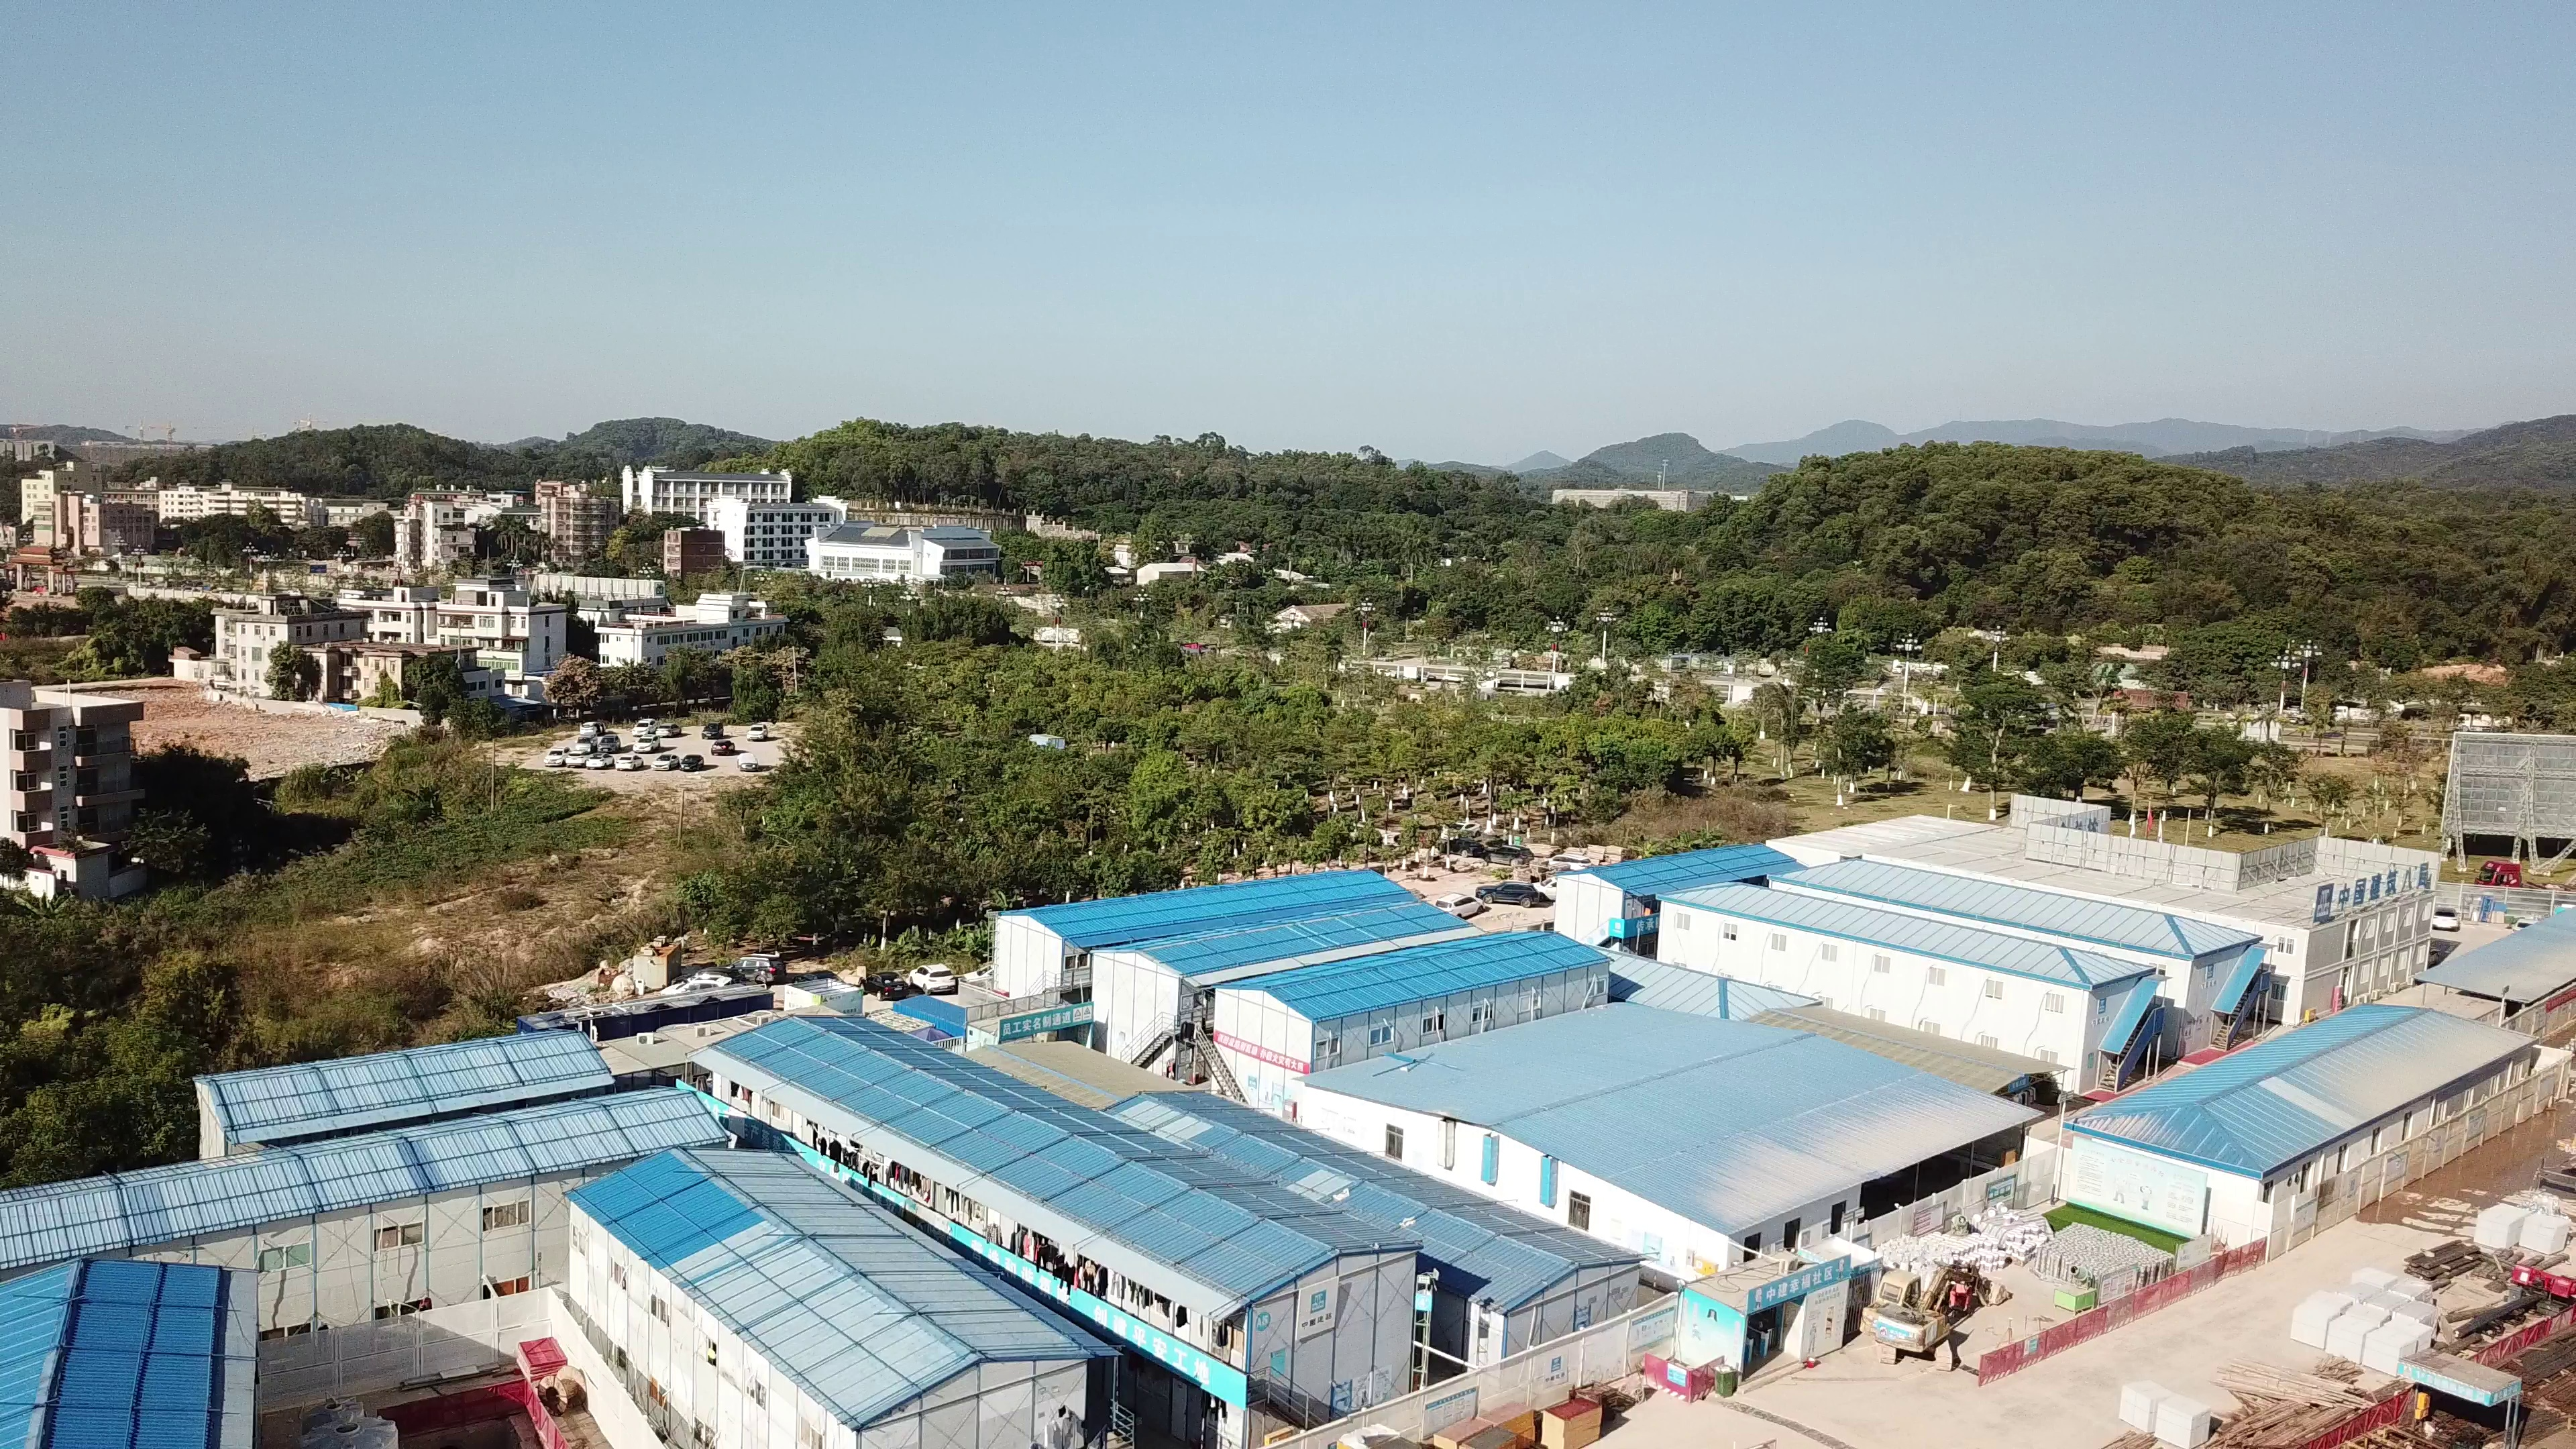brick: (2289, 1256, 2440, 1380), (2470, 1189, 2576, 1256), (2118, 1382, 2217, 1440)
fence: (1978, 1284, 2222, 1392)
slogan: (1079, 1313, 1224, 1391), (1214, 1026, 1316, 1083), (1750, 1258, 1847, 1306), (1000, 1010, 1099, 1033)
